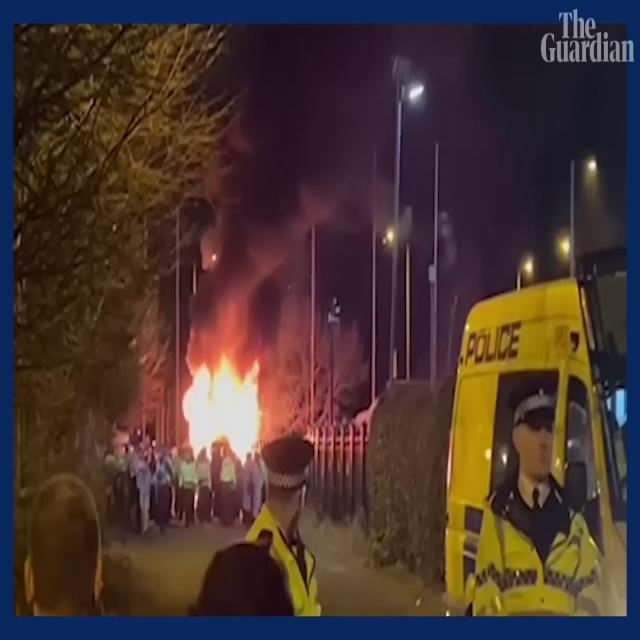Fire: (172, 342, 272, 472)
Smoke: (193, 26, 361, 346)
